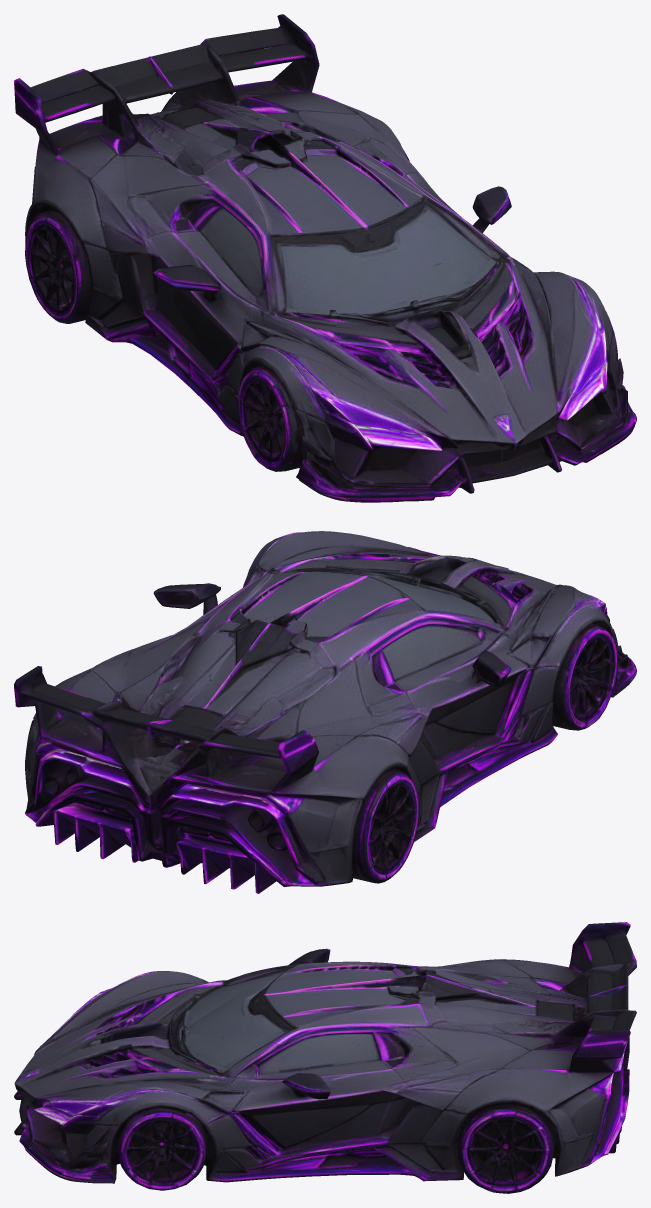
File: custom-racer-01.glb
3 views of the same model, one above another, from view 1: azimuth 30°, elevation 25°; view 2: azimuth 150°, elevation 25°; view 3: azimuth 270°, elevation 25° (orthographic). The views are drawn at different scales.
Visible parts, largest first — view 1: custom-01-source-static-mesh; view 2: custom-01-source-static-mesh; view 3: custom-01-source-static-mesh.
Part boxes in pixels (box(x1,y1,x2,y2)): custom-01-source-static-mesh: box(14, 14, 636, 502); custom-01-source-static-mesh: box(14, 531, 636, 893); custom-01-source-static-mesh: box(14, 922, 636, 1193).
Size of the model in its own units: 2.6 by 1.29 by 4.8.
1 material, 1 textured.
